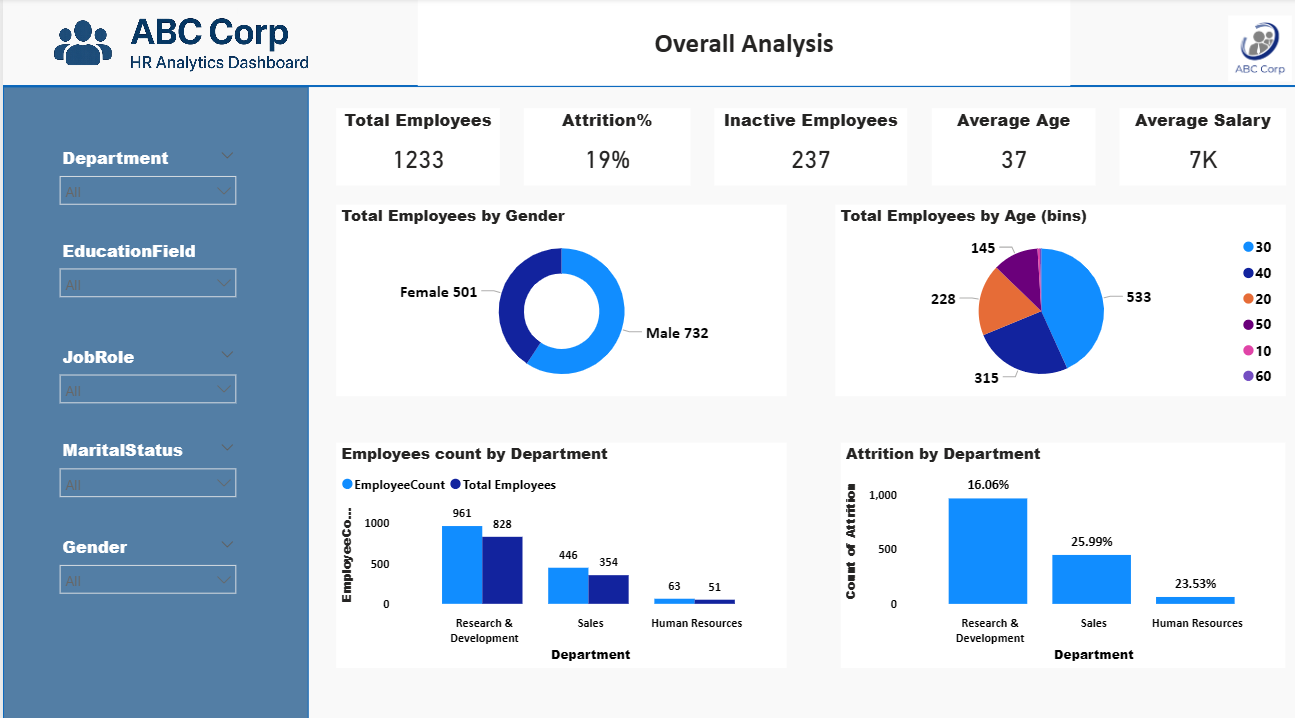

What the dashboard file says about the page in this screenshot:
{"tool":"powerbi","page":{"name":"Overview","canvas":[1280,720],"ordinal":0},"visuals":[{"type":"image","box":[0,0,373.1,106.8],"z":0},{"type":"shape","box":[0,21.6,1280.2,129.8],"z":1},{"type":"shape","box":[0,85.9,299.4,634.6],"z":2},{"type":"card","title":"Total Employees","fields":{"Values":["My_measures.Total Employees"]},"box":[326.6,107.4,160.4,75.9],"z":3},{"type":"card","title":"Average Age","fields":{"Values":["Avg(WA_Fn-UseC_-HR-Employee-Attrition.Age)"]},"box":[909.3,107.4,160.4,75.9],"z":4},{"type":"card","title":"Attrition%","fields":{"Values":["My_measures.Attrition%"]},"box":[510.3,107.4,163.3,75.9],"z":5},{"type":"card","title":"Average Salary","fields":{"Values":["My_measures.Avg salary"]},"box":[1093,107.4,163.3,75.9],"z":6},{"type":"card","title":"Inactive Employees","fields":{"Values":["My_measures.employee who left"]},"box":[696.9,107.4,189.1,75.9],"z":7},{"type":"donutChart","fields":{"Category":["WA_Fn-UseC_-HR-Employee-Attrition.Gender"],"Y":["My_measures.Total Employees"]},"box":[326.6,202,441.2,187.7],"z":8},{"type":"clusteredColumnChart","title":"Employees count by Department","fields":{"Category":["WA_Fn-UseC_-HR-Employee-Attrition.Department"],"Y":["Sum(WA_Fn-UseC_-HR-Employee-Attrition.EmployeeCount)","My_measures.Total Employees"]},"box":[326.6,435.5,441.2,220.6],"z":9},{"type":"clusteredColumnChart","title":"Attrition by Department","fields":{"Category":["WA_Fn-UseC_-HR-Employee-Attrition.Department"],"Y":["CountNonNull(WA_Fn-UseC_-HR-Employee-Attrition.Attrition)"]},"box":[820.8,435.5,435.5,220.6],"z":11},{"type":"pieChart","fields":{"Y":["My_measures.Total Employees"],"Category":["WA_Fn-UseC_-HR-Employee-Attrition.Age (bins)"]},"box":[815.1,202,441.2,187.7],"z":12},{"type":"slicer","fields":{"Values":["WA_Fn-UseC_-HR-Employee-Attrition.Department"]},"box":[45.8,140.4,193.4,84.5],"z":13,"group":"g1"},{"type":"slicer","fields":{"Values":["WA_Fn-UseC_-HR-Employee-Attrition.EducationField"]},"box":[45.8,231.4,193.4,97.4],"z":14,"group":"g1"},{"type":"slicer","fields":{"Values":["WA_Fn-UseC_-HR-Employee-Attrition.JobRole"]},"box":[45.8,335.2,193.4,84.5],"z":15,"group":"g1"},{"type":"slicer","fields":{"Values":["WA_Fn-UseC_-HR-Employee-Attrition.MaritalStatus"]},"box":[45.8,426.2,193.4,84.5],"z":16,"group":"g1"},{"type":"slicer","fields":{"Values":["WA_Fn-UseC_-HR-Employee-Attrition.Gender"]},"box":[45.8,521.4,193.4,84.5],"z":17,"group":"g1"},{"type":"group","id":"g1","title":"Group 1","box":[45.8,140.4,193.4,465.6],"z":18},{"type":"image","box":[1181.8,11.5,98.8,74.5],"z":19},{"type":"card","fields":{"Values":["My_measures.title"]},"box":[406.8,0,638.9,85.9],"z":20}]}

Visuals, with their boxes in screenshot pixels (x1, y1, x2, y2), scaled from the page's 1280x720 canvas onto the 1295x718 screenshot:
image: (0, 0, 377, 107)
shape: (0, 22, 1294, 151)
shape: (0, 86, 303, 717)
"Total Employees" card: (330, 107, 493, 183)
"Average Age" card: (920, 107, 1082, 183)
"Attrition%" card: (516, 107, 681, 183)
"Average Salary" card: (1106, 107, 1271, 183)
"Inactive Employees" card: (705, 107, 896, 183)
donutChart - WA_Fn-UseC_-HR-Employee-Attrition.Gender x My_measures.Total Employees: (330, 201, 777, 389)
"Employees count by Department" clusteredColumnChart: (330, 434, 777, 654)
"Attrition by Department" clusteredColumnChart: (830, 434, 1271, 654)
pieChart - My_measures.Total Employees x WA_Fn-UseC_-HR-Employee-Attrition.Age (bins): (825, 201, 1271, 389)
slicer - WA_Fn-UseC_-HR-Employee-Attrition.Department: (46, 140, 242, 224)
slicer - WA_Fn-UseC_-HR-Employee-Attrition.EducationField: (46, 231, 242, 328)
slicer - WA_Fn-UseC_-HR-Employee-Attrition.JobRole: (46, 334, 242, 419)
slicer - WA_Fn-UseC_-HR-Employee-Attrition.MaritalStatus: (46, 425, 242, 509)
slicer - WA_Fn-UseC_-HR-Employee-Attrition.Gender: (46, 520, 242, 604)
"Group 1" group: (46, 140, 242, 604)
image: (1196, 11, 1294, 86)
card - My_measures.title: (412, 0, 1058, 86)
